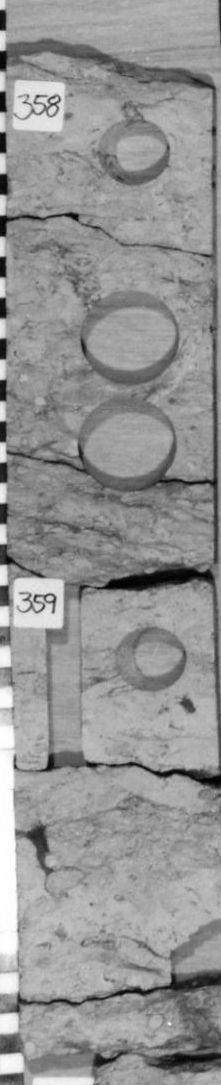hplug: (110, 620, 189, 694), (95, 114, 174, 188)
scal: (76, 287, 184, 391), (75, 391, 177, 498)
vplug: (40, 578, 89, 771)
